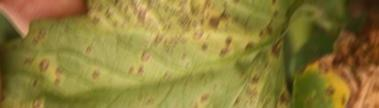Tomato Septoria leaf spot: (0, 0, 317, 108), (309, 26, 379, 108)
